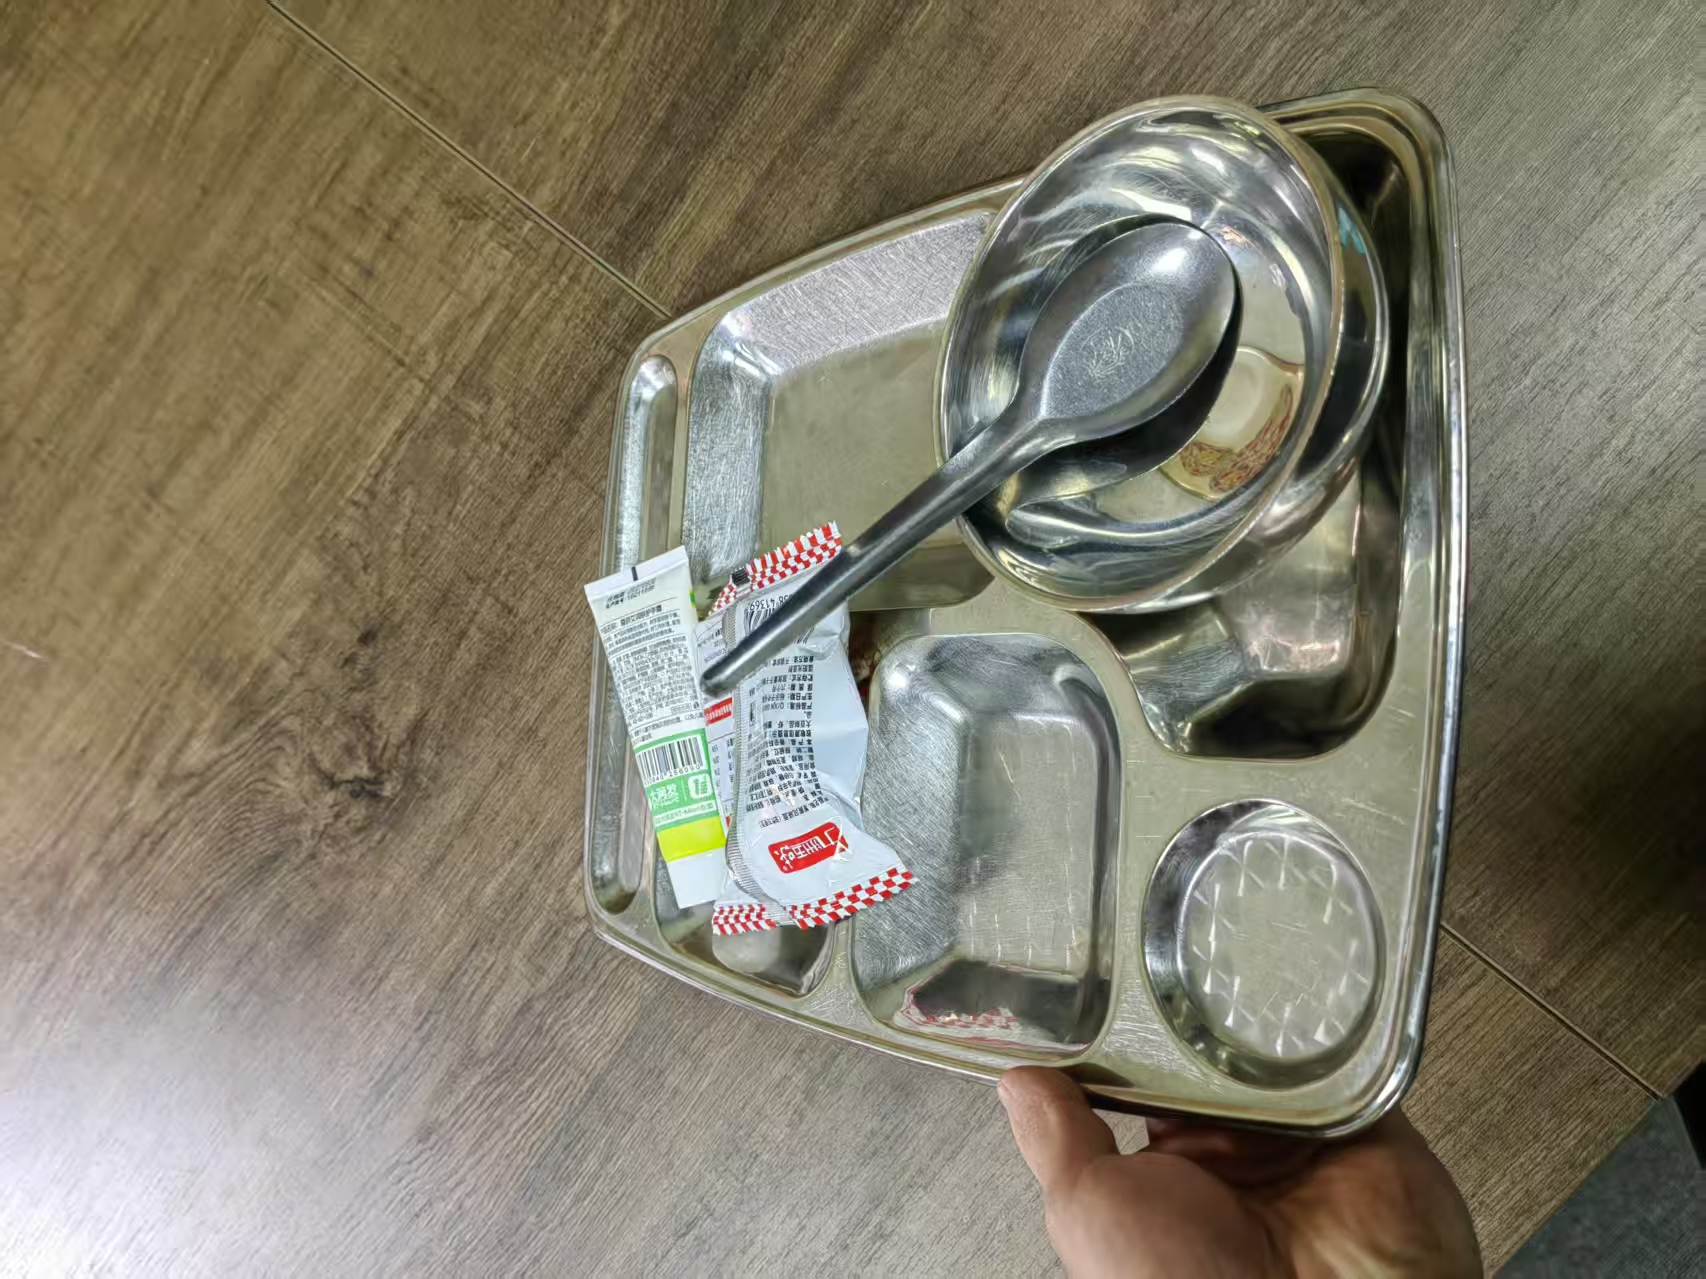mild: (589, 521, 922, 938)
plate: (583, 85, 1475, 1143)
